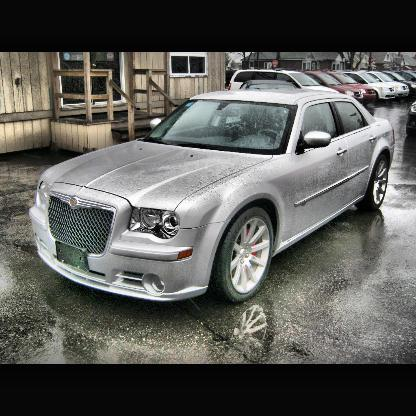Chrysler 300 SRT-8 2010: (28, 92, 396, 308)
